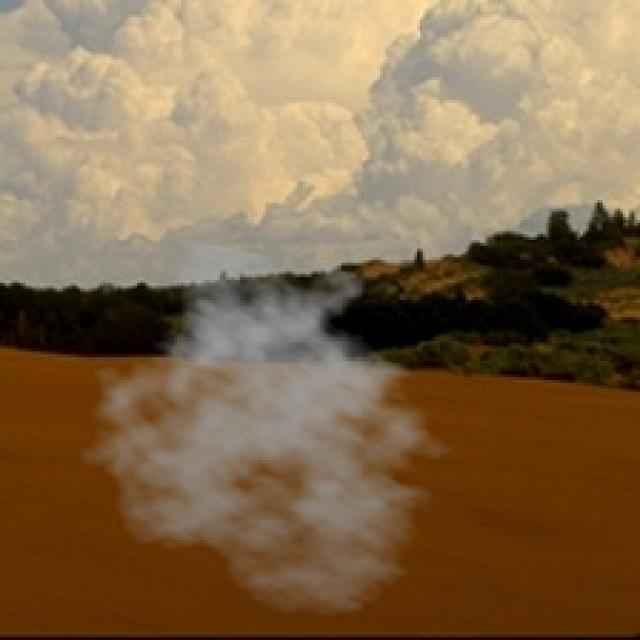smoke: (74, 237, 472, 620)
